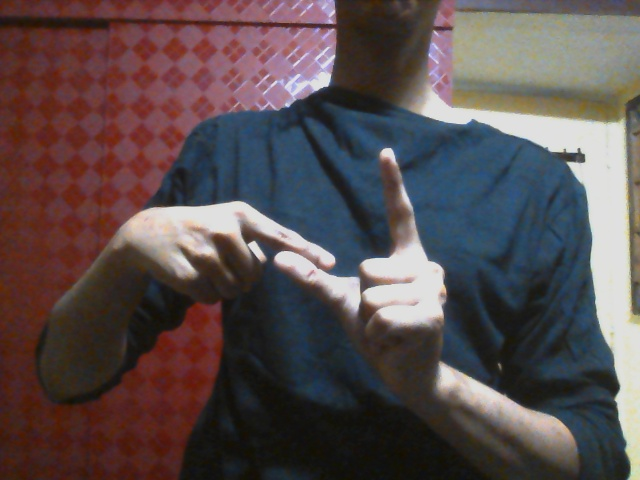J: (124, 144, 446, 374)
